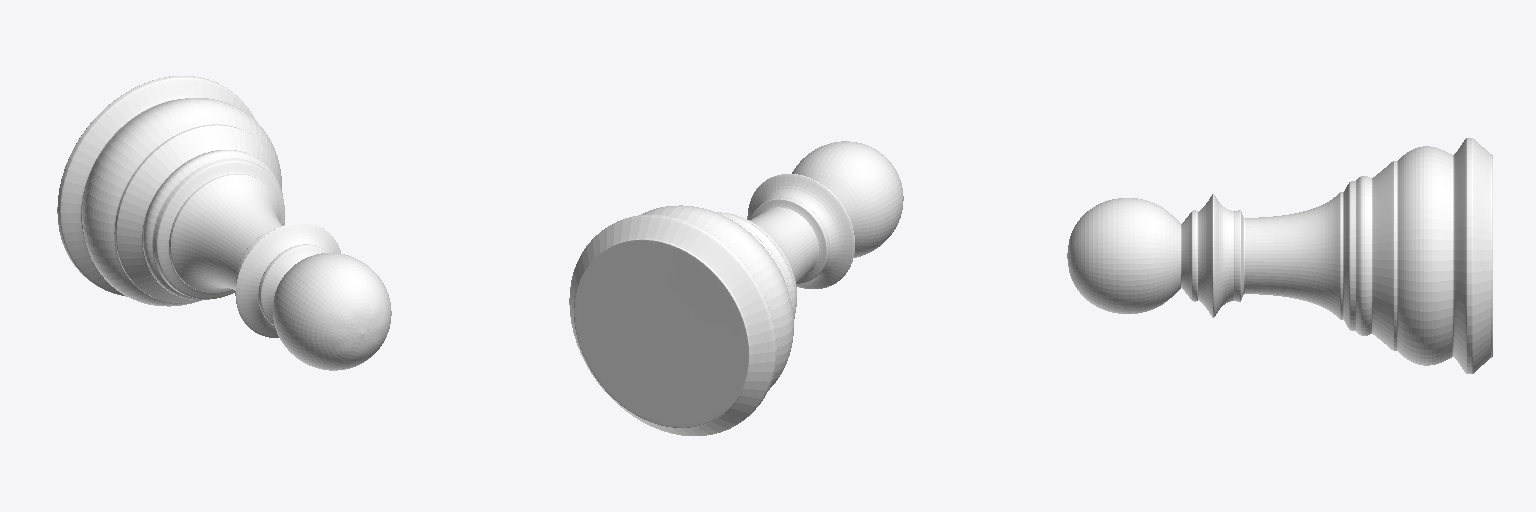
File: 12931_WoodenChessPawnSideA_v1_l3.obj
3 renders of one model, left to right at view 1: azimuth 30°, elevation 25°; view 2: azimuth 150°, elevation 25°; view 3: azimuth 270°, elevation 25°, orthographic.
Parts seen in each view (by area): view 1: 12931_WoodenChessPawnSideA; view 2: 12931_WoodenChessPawnSideA; view 3: 12931_WoodenChessPawnSideA.
Part boxes in pixels (x1,y1,x2,y2): 12931_WoodenChessPawnSideA: (57,76,391,370); 12931_WoodenChessPawnSideA: (569,141,903,435); 12931_WoodenChessPawnSideA: (1067,138,1492,373).
Size of the model in its own units: 4.47 by 4.47 by 8.03.